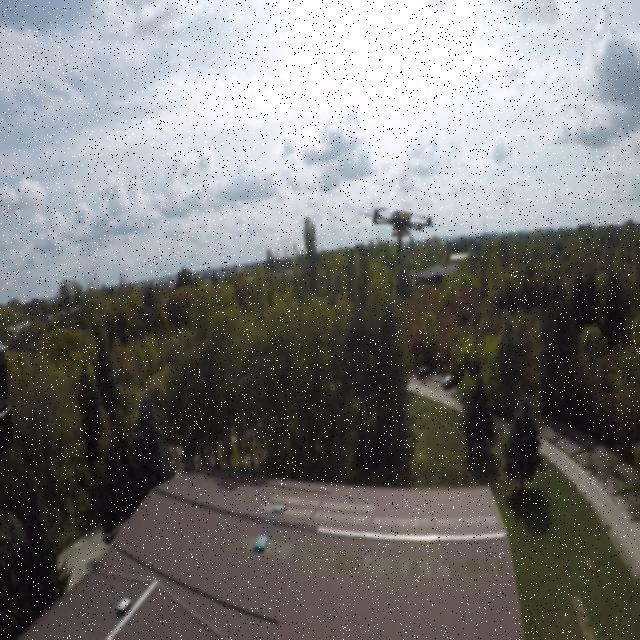UAV: (358, 204, 444, 272)
